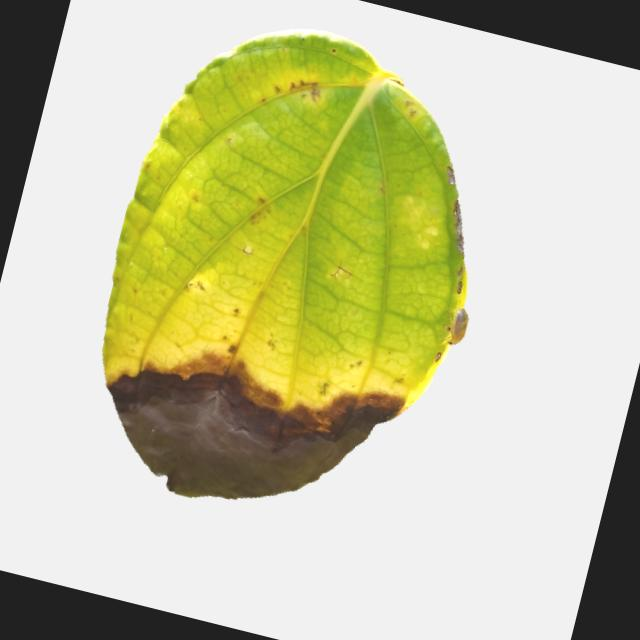leaf-blight: (51, 6, 546, 558)
